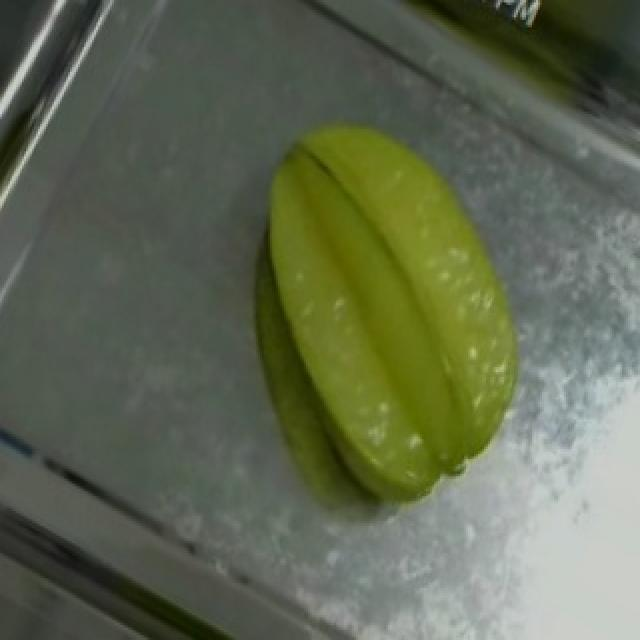fruit: (198, 77, 580, 479)
